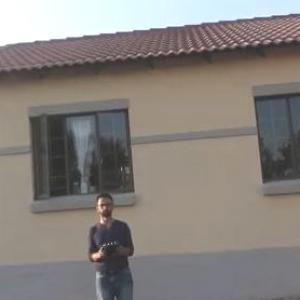follow: (82, 187, 140, 299)
